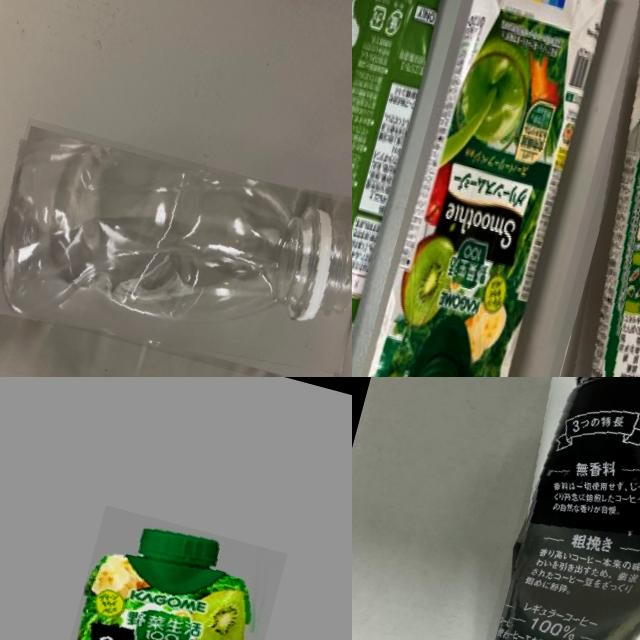Aluminium Foil: (356, 0, 627, 377), (516, 0, 640, 377), (352, 0, 464, 377), (29, 503, 286, 640)
Can: (457, 377, 640, 640)
Transparent Plastic Bottle: (0, 116, 352, 377)
